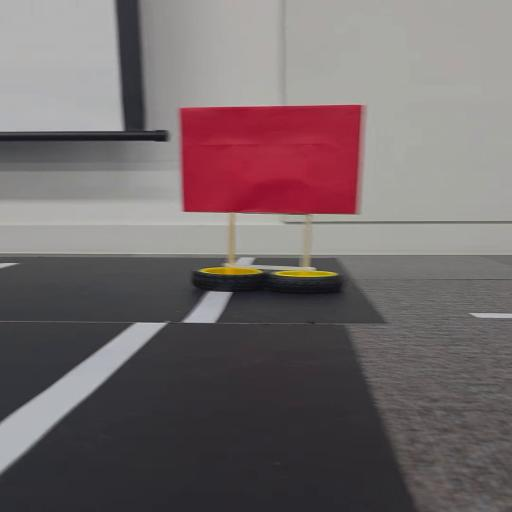Sign_A: (172, 98, 366, 298)
